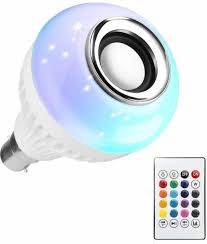bulb: (11, 1, 193, 187)
